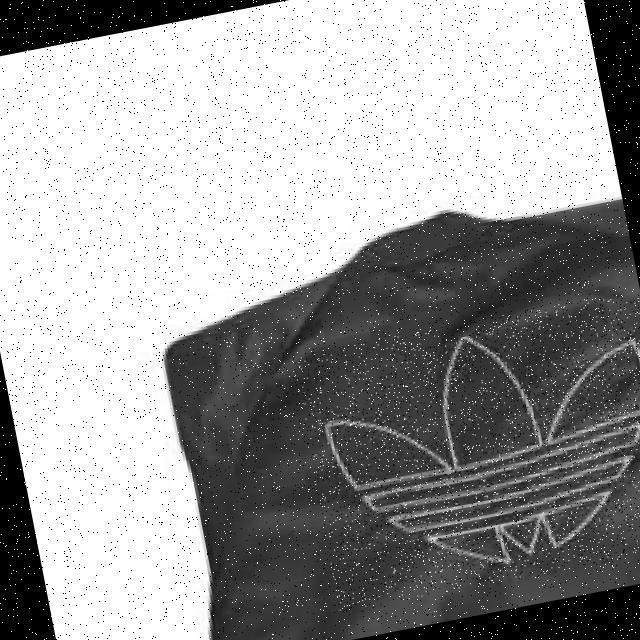Adidas: (290, 288, 640, 613)
